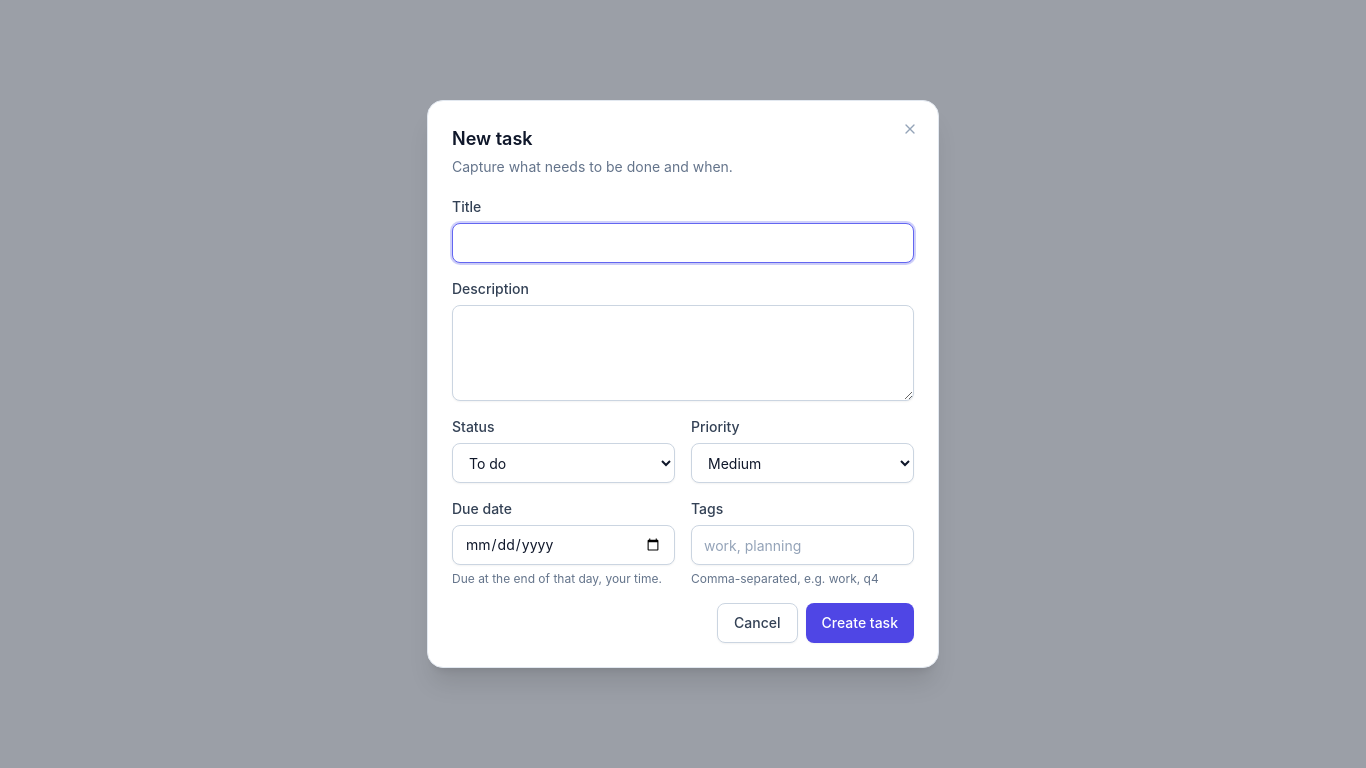
Scenario: TaskFormDialog › shows validation errors and does not submit invalid input
The width and height of the screenshot is (1366, 768).
Type "Bad Tag!" into the field labelled "Tags" at (802,545), box x1=691 y1=525 x2=914 y2=565
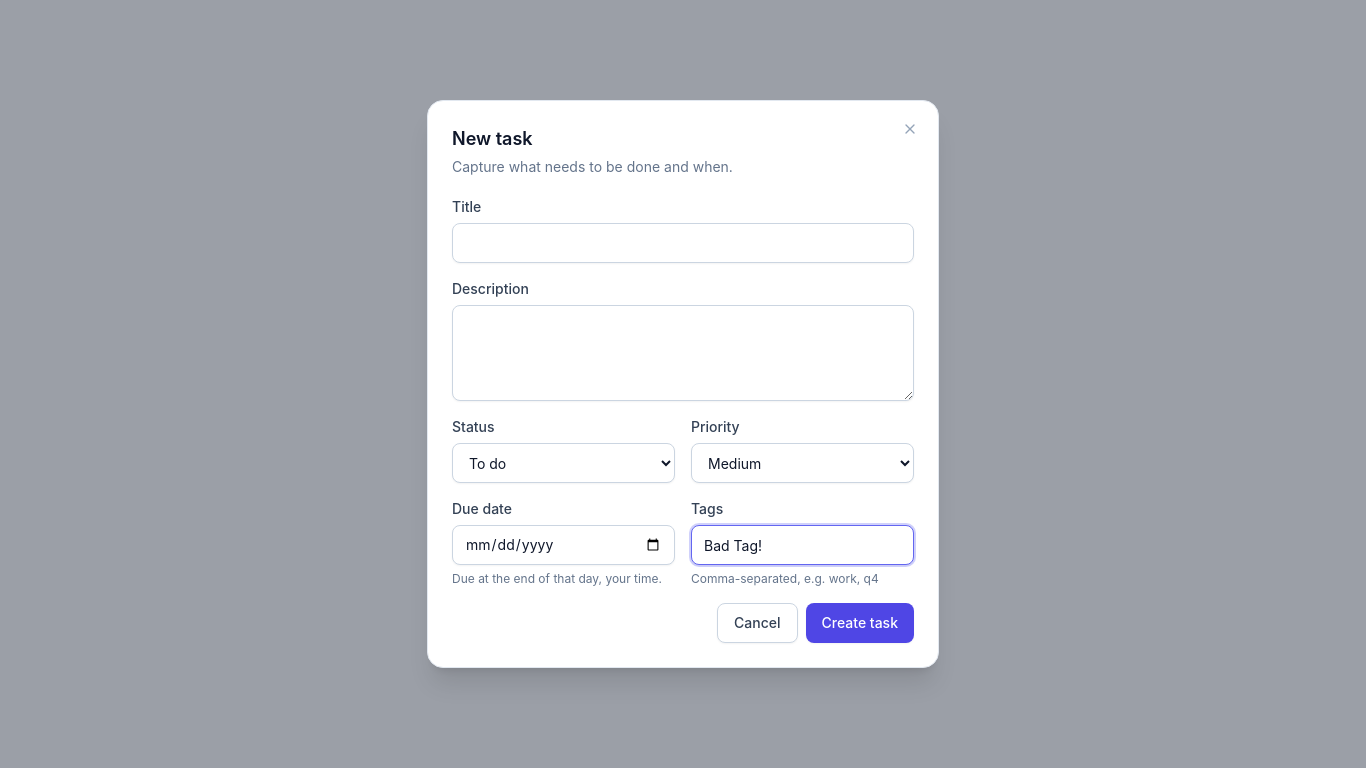
Click the button "Create task" at (860,623), box x1=806 y1=603 x2=914 y2=643
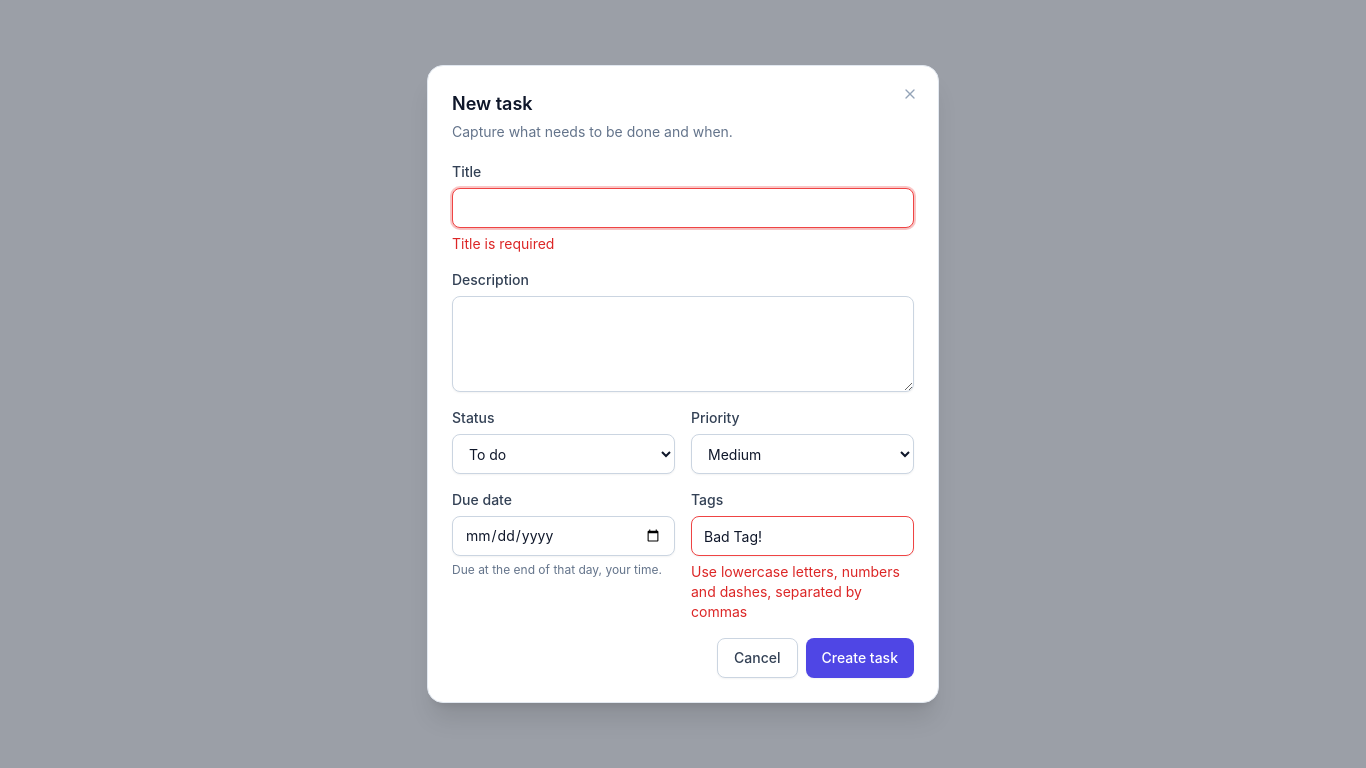
Expected: the text "Title is required" is shown, x1=452 y1=235 x2=554 y2=252
Expected: the text "Use lowercase letters, numbers and dashes, separated by commas" is shown, x1=691 y1=562 x2=914 y2=622
